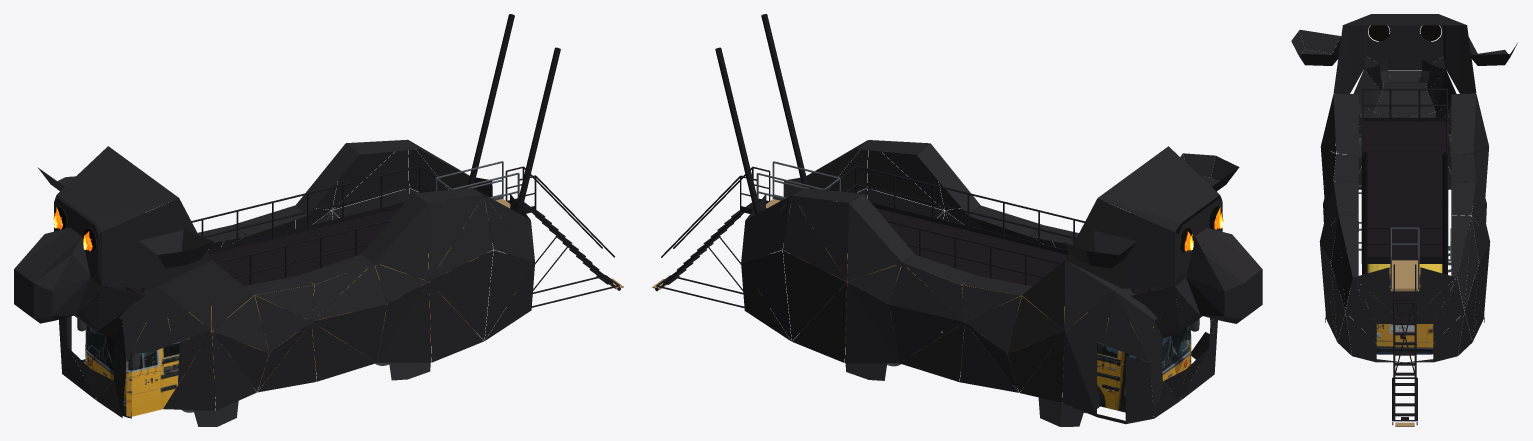
The model's file is baaabs-earl-light-workshop.glb.
3 views of the same model, side by side, from view 1: azimuth 30°, elevation 25°; view 2: azimuth 150°, elevation 25°; view 3: azimuth 270°, elevation 25° (orthographic). The views are drawn at different scales.
Parts seen in each view (by area): view 1: B-D-036 | Driver Flank 06 b, B-D-043 | Driver Skirt 02 a, B-D-037 | Driver Flank 07 a, B-D-047 | Driver Skirt 04 a, B-D-028 | Driver Flank 02 b, H-D-001 | Driver continuous side, B-D-045 | Driver Skirt 03 a, B-D-033 | Driver Flank 05 a, B-P-045 | Passenger Flank 07 a, H-D-014 | Driver head side upper, B-D-030 | Driver Flank 03 b, B-D-029 | Driver Flank 03 a (+66 smaller); view 2: B-P-044 | Passenger Flank 06 b, B-P-045 | Passenger Flank 07 a, B-P-055 | Passenger Skirt 04 a, H-P-001 | Passenger continuous side, B-P-036 | Passenger Flank 02 b, B-P-041 | Passenger Flank 05 a, B-D-037 | Driver Flank 07 a, H-P-014 | Passenger head side upper, B-P-053 | Passenger Skirt 03 a, B-P-038 | Passenger Flank 03 b, B-P-037 | Passenger Flank 03 a, B-P-039 | Passenger Flank 04 a (+67 smaller); view 3: B-D-013 | Driver Crown 03 a, B-P-021 | Passenger Crown 03 a, Bus__Rear fascia, Dancefloor_section_01, H-C-001 | Center S lower front, B-D-059 | Driver Rear surround 06 a, B-P-015 | Passenger Rear surround 05 a, Dancefloor_section_02, Dancefloor_section_12, Dancefloor_section_05, Dancefloor_section_09, Dancefloor_section_04 (+78 smaller).
Boxes of the visible parts, x1,y1,x2,y2 form: B-D-036 | Driver Flank 06 b: (374,203,428,281); B-D-043 | Driver Skirt 02 a: (163,332,215,410); B-D-037 | Driver Flank 07 a: (430,196,493,280); B-D-047 | Driver Skirt 04 a: (258,322,316,392); B-D-028 | Driver Flank 02 b: (162,260,211,330); H-D-001 | Driver continuous side: (101,250,150,288); B-D-045 | Driver Skirt 03 a: (212,332,256,410); B-D-033 | Driver Flank 05 a: (312,263,386,321); B-P-045 | Passenger Flank 07 a: (333,150,408,209); H-D-014 | Driver head side upper: (101,208,156,254); B-D-030 | Driver Flank 03 b: (211,260,253,330); B-D-029 | Driver Flank 03 a: (212,295,268,352); B-P-044 | Passenger Flank 06 b: (847,203,901,281); B-P-045 | Passenger Flank 07 a: (783,196,846,281); B-P-055 | Passenger Skirt 04 a: (959,323,1018,392); H-P-001 | Passenger continuous side: (1125,250,1174,288); B-P-036 | Passenger Flank 02 b: (1065,260,1113,330); B-P-041 | Passenger Flank 05 a: (889,263,963,321); B-D-037 | Driver Flank 07 a: (867,150,943,210); H-P-014 | Passenger head side upper: (1120,208,1174,254); B-P-053 | Passenger Skirt 03 a: (1020,332,1064,402); B-P-038 | Passenger Flank 03 b: (1022,260,1064,330); B-P-037 | Passenger Flank 03 a: (1007,296,1063,353); B-P-039 | Passenger Flank 04 a: (965,296,1021,353); B-D-013 | Driver Crown 03 a: (1333,93,1358,154); B-P-021 | Passenger Crown 03 a: (1451,93,1476,154); Bus__Rear fascia: (1369,274,1440,347); Dancefloor_section_01: (1361,121,1448,133); H-C-001 | Center S lower front: (1374,91,1435,112); B-D-059 | Driver Rear surround 06 a: (1353,267,1404,321); B-P-015 | Passenger Rear surround 05 a: (1405,267,1456,321); Dancefloor_section_02: (1361,133,1448,144); Dancefloor_section_12: (1361,248,1448,263); Dancefloor_section_05: (1361,167,1448,178); Dancefloor_section_09: (1361,212,1448,223); Dancefloor_section_04: (1361,156,1448,167).
Size of the model in its own units: 18.68 by 8.36 by 7.07.
230 materials, 1 textured.
